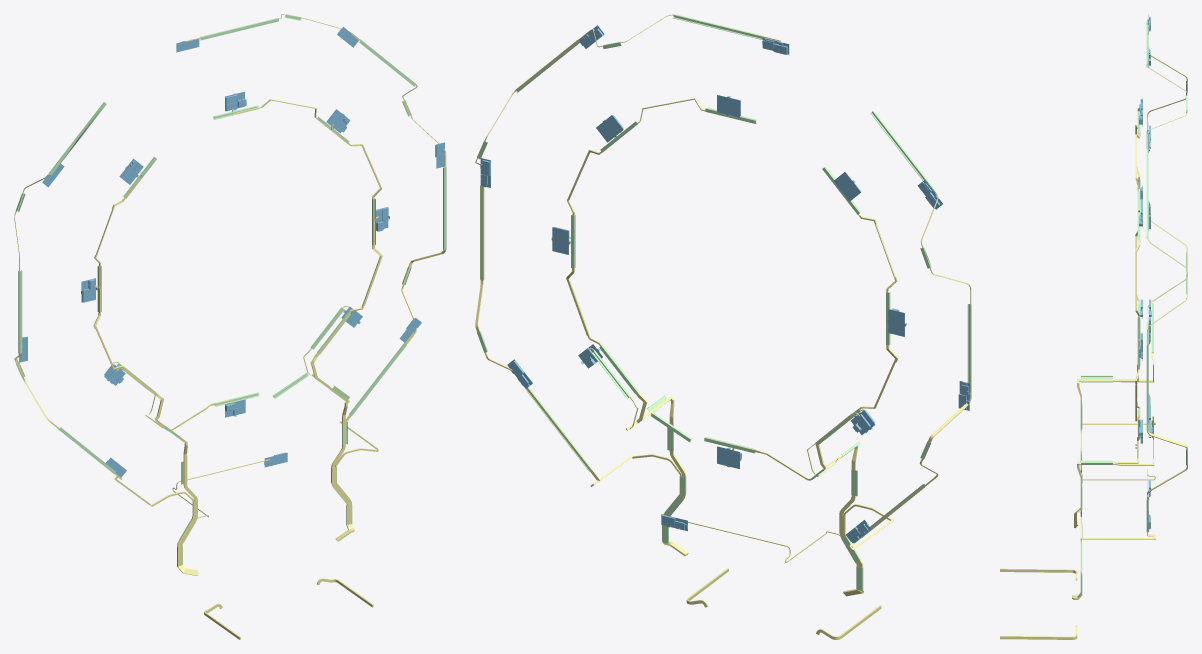
The model's file is MSPatchPannel-cut1.glb.
3 views of the same model, side by side, from view 1: azimuth 30°, elevation 25°; view 2: azimuth 150°, elevation 25°; view 3: azimuth 270°, elevation 25° (orthographic). The views are drawn at different scales.
Visible parts, largest first — view 1: _0000020950EC57A0_IndexedFaceSet, _000002095112CDB0_IndexedFaceSet, _00000209513C7820_0010_IndexedFaceSet; view 2: _0000020950EC57A0_IndexedFaceSet, _000002095112CDB0_IndexedFaceSet, _00000209513C7820_0010_IndexedFaceSet; view 3: _0000020950EC57A0_IndexedFaceSet, _000002095112CDB0_IndexedFaceSet, _00000209513C7820_0010_IndexedFaceSet.
Boxes of the visible parts, <box> form: _0000020950EC57A0_IndexedFaceSet: <box>14,14,446,639</box>; _000002095112CDB0_IndexedFaceSet: <box>15,14,446,566</box>; _00000209513C7820_0010_IndexedFaceSet: <box>18,27,444,477</box>; _0000020950EC57A0_IndexedFaceSet: <box>475,14,971,639</box>; _000002095112CDB0_IndexedFaceSet: <box>477,14,971,590</box>; _00000209513C7820_0010_IndexedFaceSet: <box>480,25,969,543</box>; _0000020950EC57A0_IndexedFaceSet: <box>1000,17,1187,639</box>; _000002095112CDB0_IndexedFaceSet: <box>1080,19,1187,595</box>; _00000209513C7820_0010_IndexedFaceSet: <box>1139,14,1152,531</box>.
Bounding box in the file's own units: 18.02 × 21.89 × 6.62.
